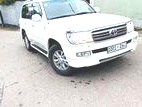car: (19, 0, 138, 74)
